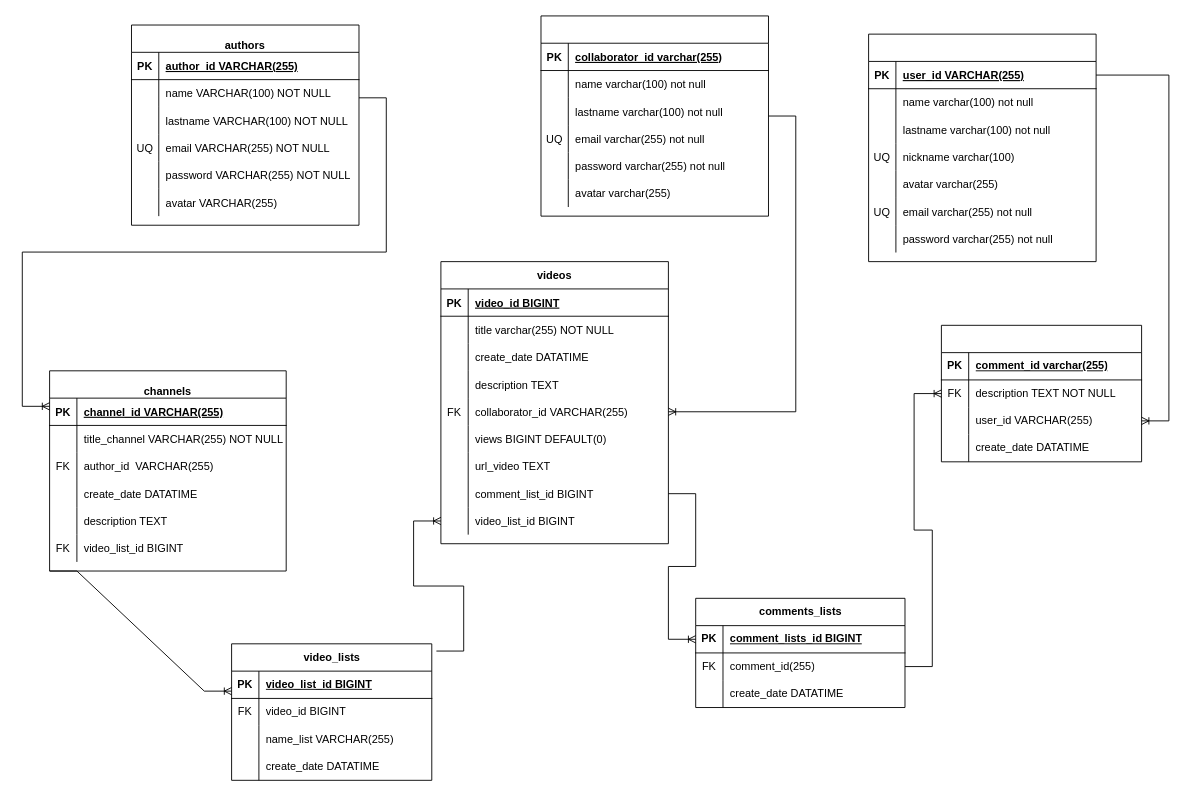
Some shapes in this 1192 by 796 pixel diagram are drawn without their labels. Here are the shapes that lost their labels. From the top down, the box of each, then its label:
(540, 15, 768, 216): collaborators
(868, 33, 1096, 262): users
(940, 324, 1142, 462): comments
